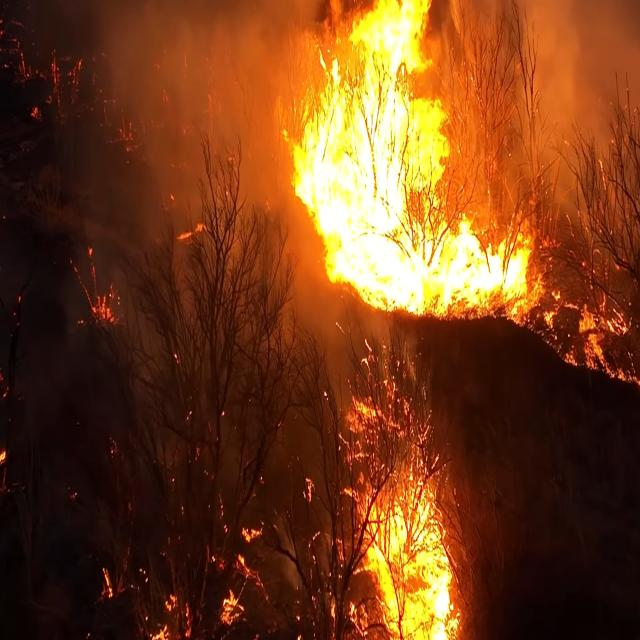fire: (283, 0, 527, 295), (342, 365, 466, 640)
smoke: (77, 0, 251, 117)
